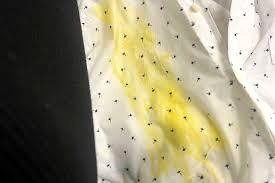mustard: (132, 58, 194, 156), (110, 7, 164, 82), (168, 102, 221, 158)
